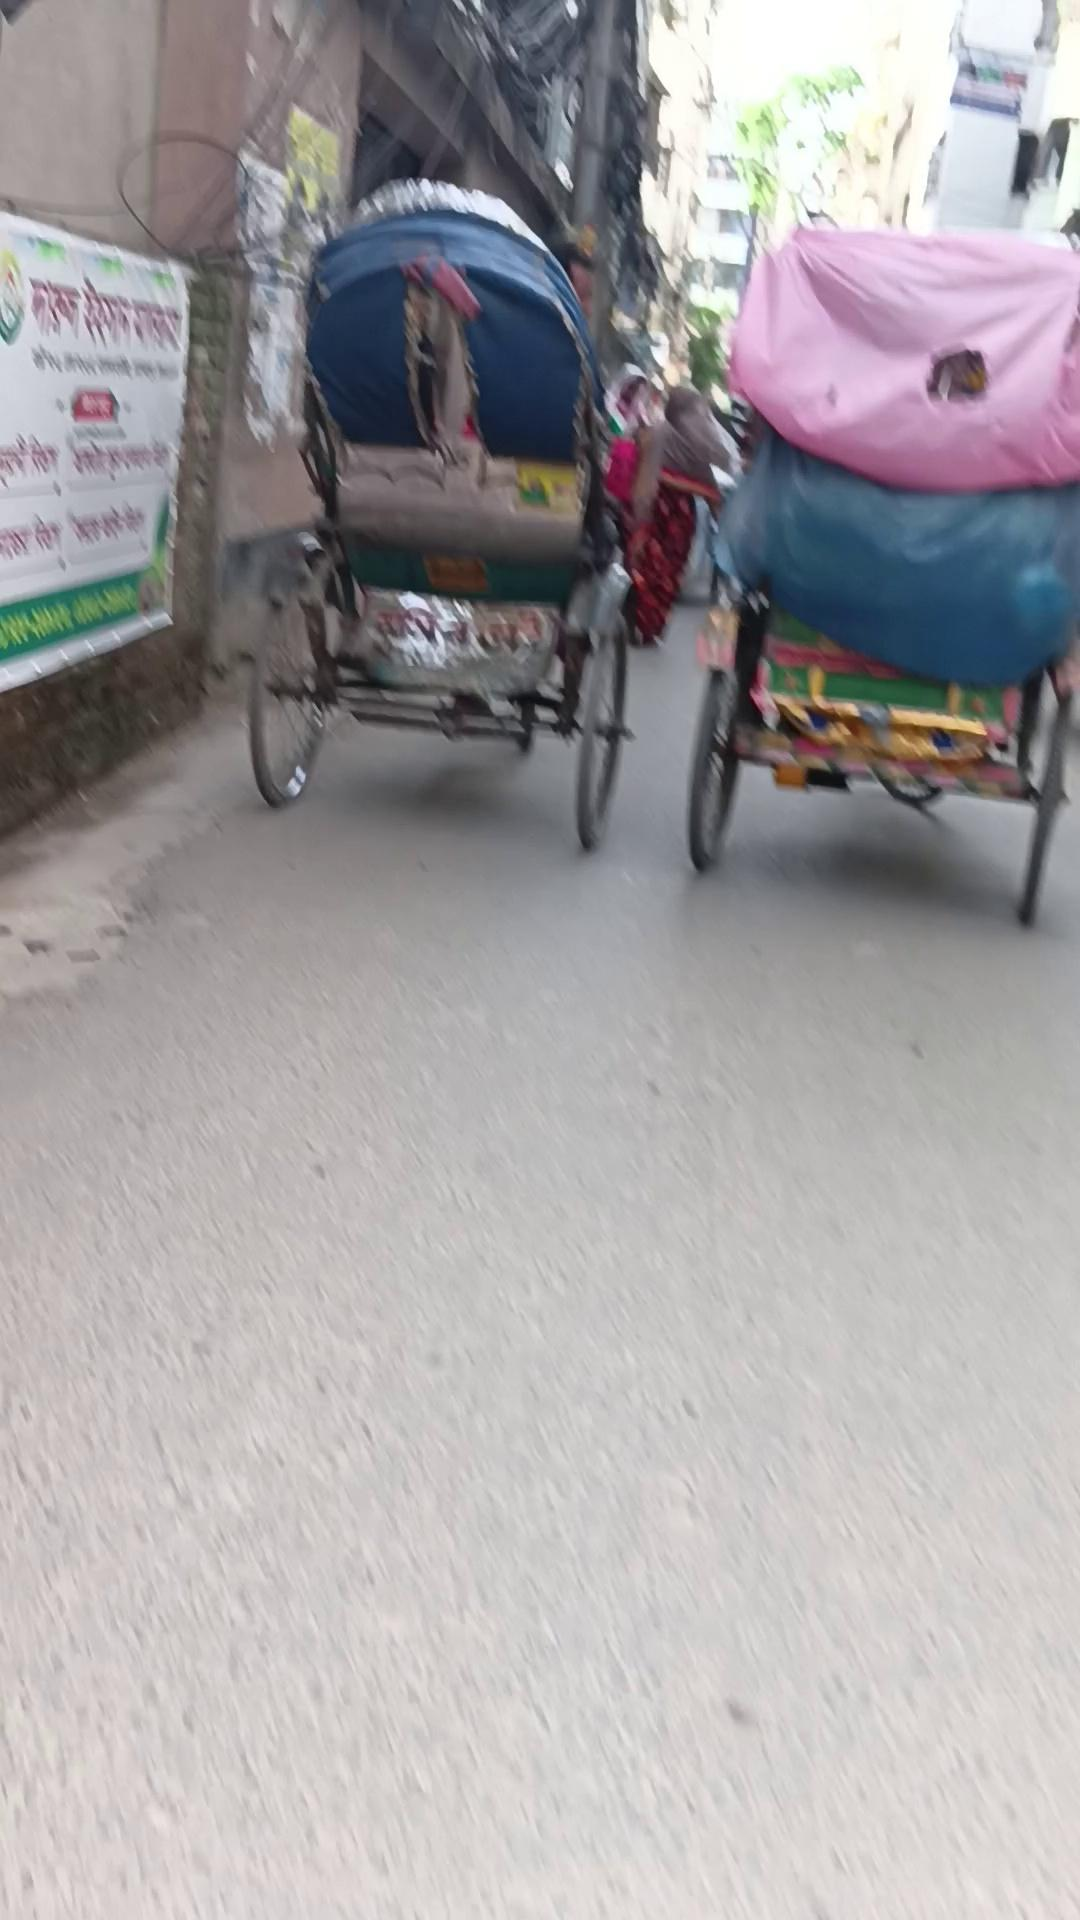Crosswalk: (1, 607, 175, 694)
Pothole: (229, 178, 640, 852), (698, 229, 1080, 918), (240, 516, 636, 853)
